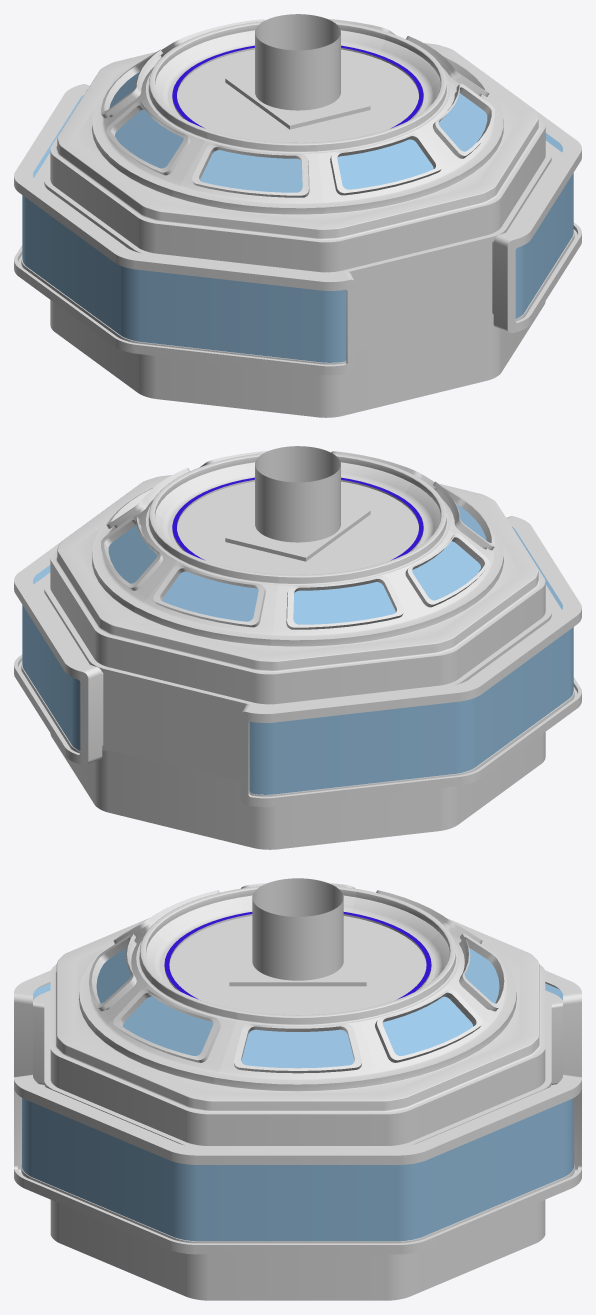
The model's file is SpaceStation_ModuleTest3_6x6.fbx.
3 views of the same model, one above another, from view 1: azimuth 30°, elevation 25°; view 2: azimuth 150°, elevation 25°; view 3: azimuth 270°, elevation 25° (orthographic). The views are drawn at different scales.
Visible parts, largest first — view 1: Walls_Plain, Ceiling_Windowed.003, 360Windows, Ceiling_InnerFace; view 2: Walls_Plain, Ceiling_Windowed.003, 360Windows, Ceiling_InnerFace; view 3: Walls_Plain, Ceiling_Windowed.003, 360Windows, Ceiling_InnerFace.
Boxes of the visible parts, x1=… form: Walls_Plain: x1=14, y1=84, x2=581, y2=417; Ceiling_Windowed.003: x1=50, y1=18, x2=545, y2=242; 360Windows: x1=22, y1=95, x2=573, y2=362; Ceiling_InnerFace: x1=168, y1=14, x2=427, y2=142; Walls_Plain: x1=14, y1=516, x2=581, y2=849; Ceiling_Windowed.003: x1=50, y1=450, x2=545, y2=674; 360Windows: x1=22, y1=527, x2=573, y2=794; Ceiling_InnerFace: x1=168, y1=446, x2=427, y2=574; Walls_Plain: x1=14, y1=970, x2=581, y2=1300; Ceiling_Windowed.003: x1=50, y1=883, x2=545, y2=1114; 360Windows: x1=22, y1=983, x2=573, y2=1241; Ceiling_InnerFace: x1=159, y1=878, x2=436, y2=1014.
Size of the model in its own units: 746 by 433 by 746.
